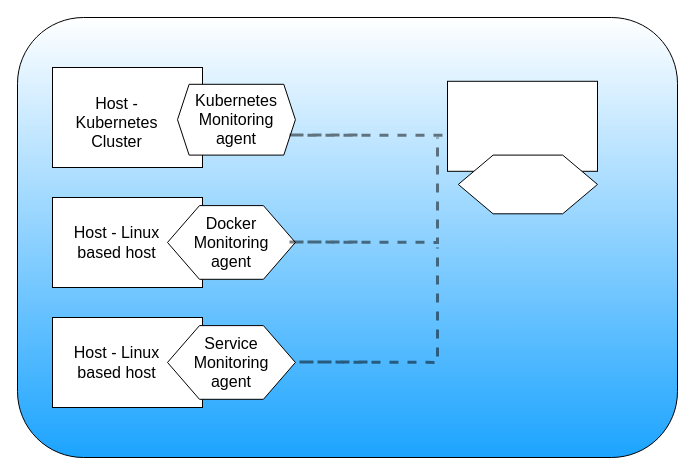
This 695x475 diagram has some shape labels left out. Each missing label, with the box of its shape:
Host - Bare metal: (446, 80, 598, 171)
IPMI Tools IPMI Exporter: (457, 154, 598, 214)
